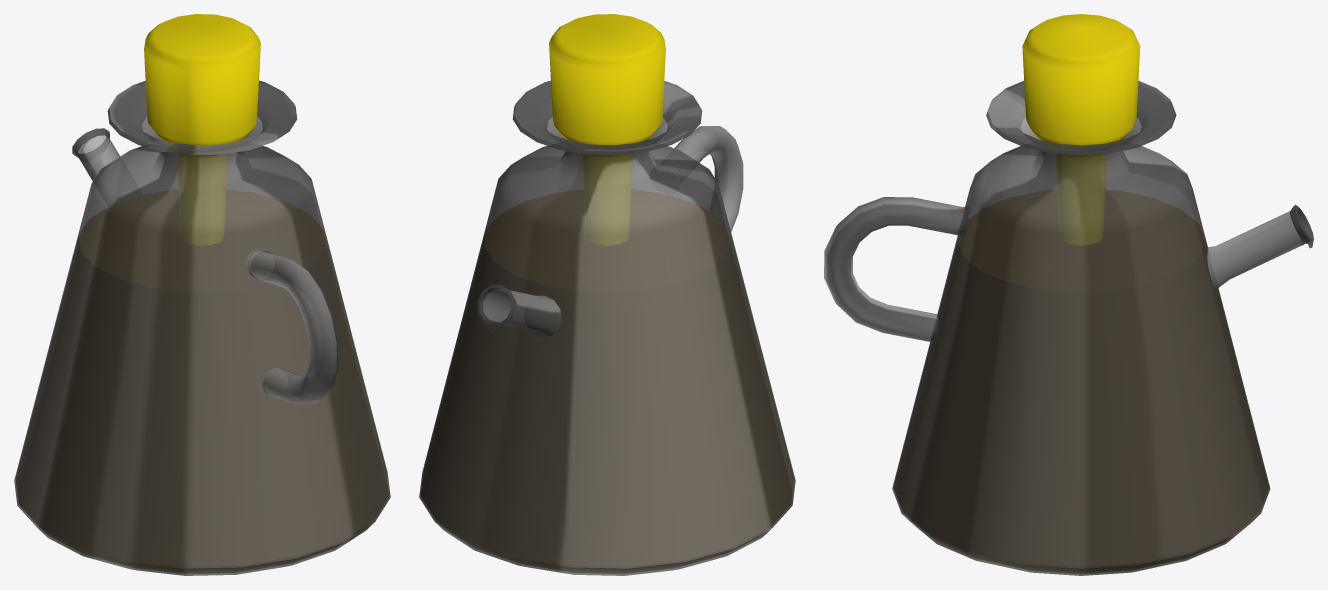
File: soysauce_full.fbx
3 renders of one model, left to right at view 1: azimuth 30°, elevation 25°; view 2: azimuth 150°, elevation 25°; view 3: azimuth 270°, elevation 25°, orthographic.
Parts seen in each view (by area): view 1: soy_full; view 2: soy_full; view 3: soy_full.
Part boxes in pixels (x1,y1,x2,y2): soy_full: (14,14,390,575); soy_full: (419,14,795,575); soy_full: (824,14,1313,575).
Size of the model in its own units: 9.93 by 13.88 by 12.86.
3 materials, 1 textured.
